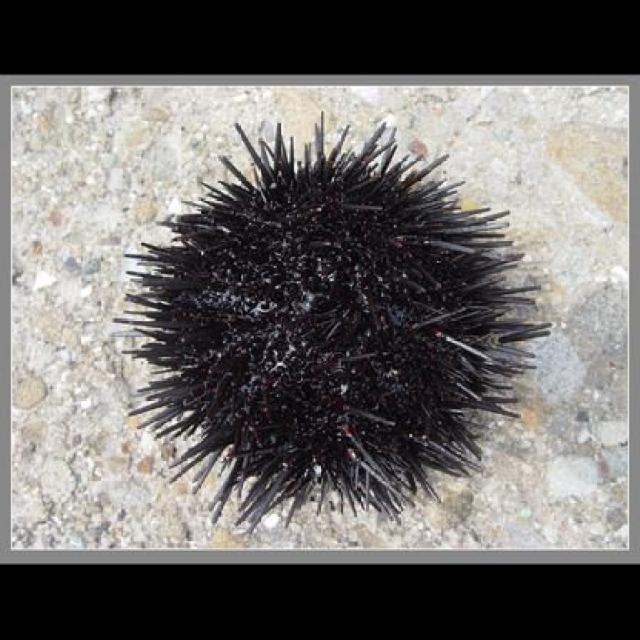Urchin: (114, 123, 548, 520)
